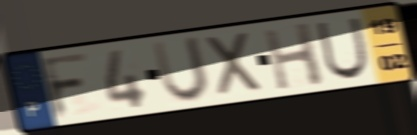4: (103, 47, 150, 111)
F: (39, 50, 92, 122)
H: (261, 20, 327, 92)
U: (149, 34, 213, 106), (314, 15, 371, 82)
X: (202, 29, 267, 100)
